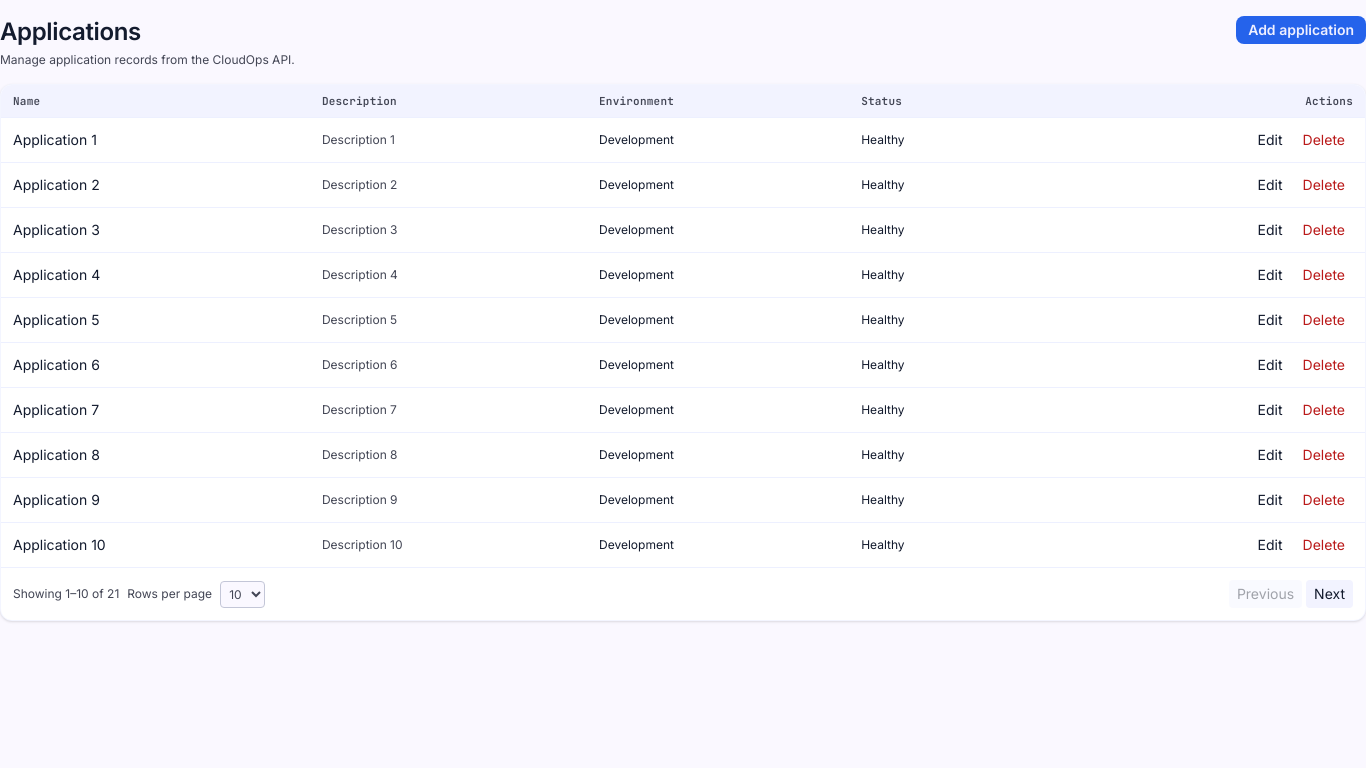
Scenario: ApplicationsPage › moves to the previous page after deleting the last page item
The image size is (1366, 768).
Expected: the row "Application 1 Description 1 development healthy Edit Delete" is shown, [1,118,1365,162]
Step 1. Click the button with aria-label "Next page" → (1330, 594), box [1306,580,1353,608]
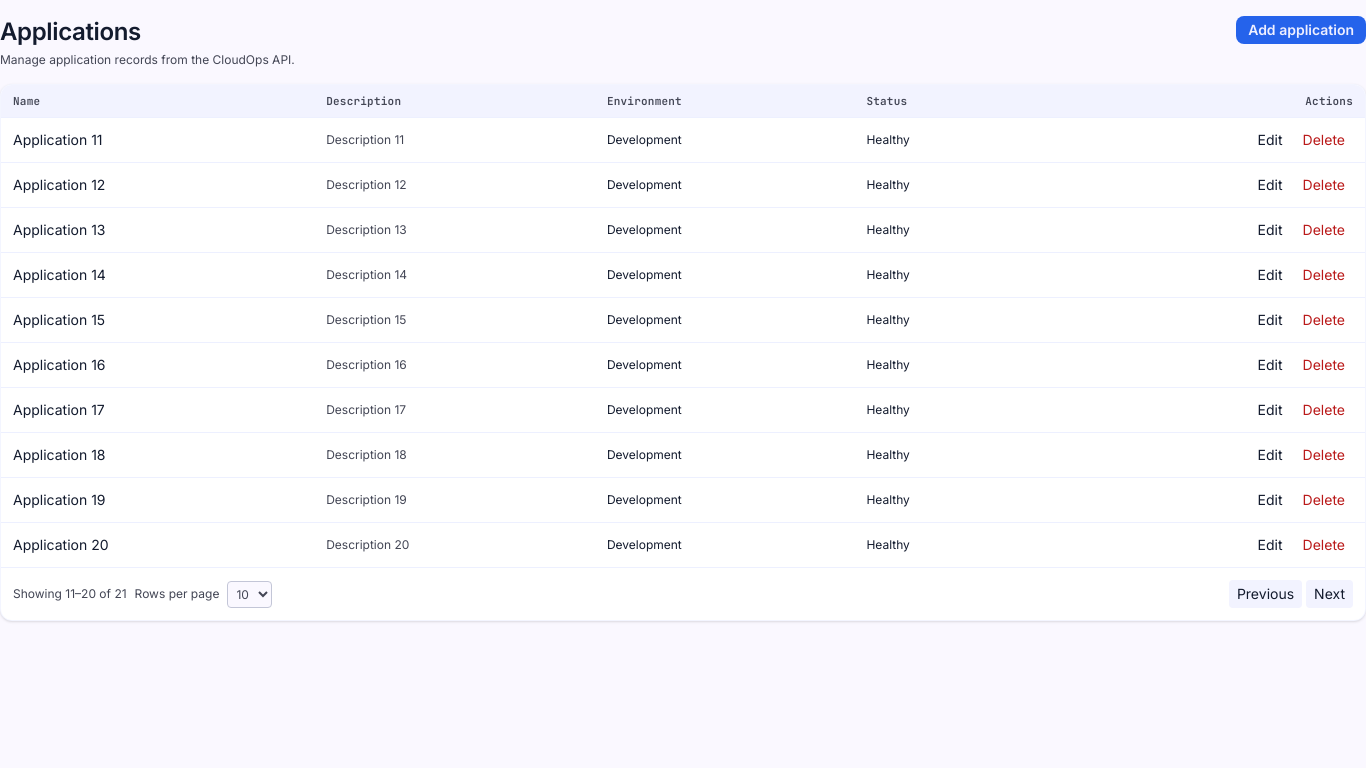
Now the row that starts with "Application 11" is shown, box [1,118,1365,162]
Step 2. Click the button with aria-label "Next page" → (1330, 594), box [1306,580,1353,608]
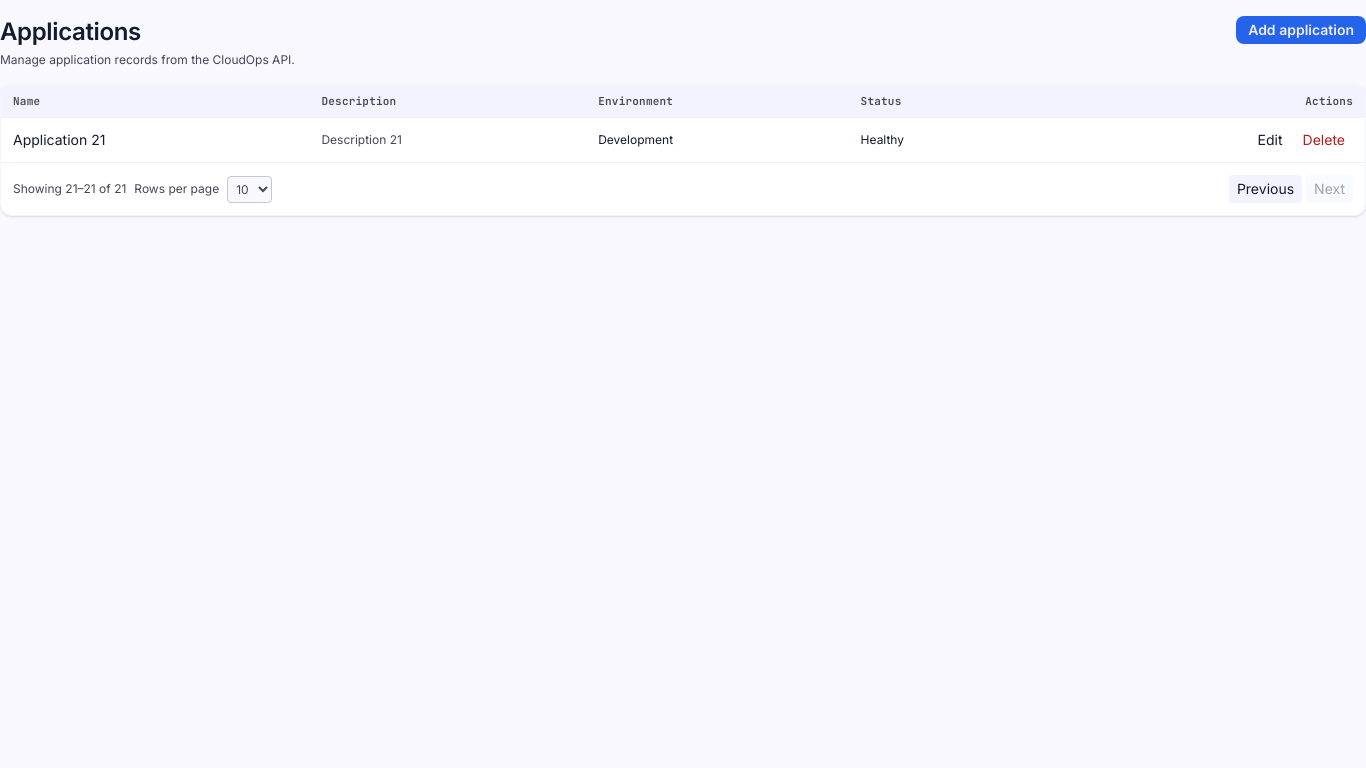
Now the row that starts with "Application 21" is shown, box [1,118,1365,162]
Step 3. Click the button with aria-label "Delete Application 21" → (1324, 140), box [1295,126,1353,154]
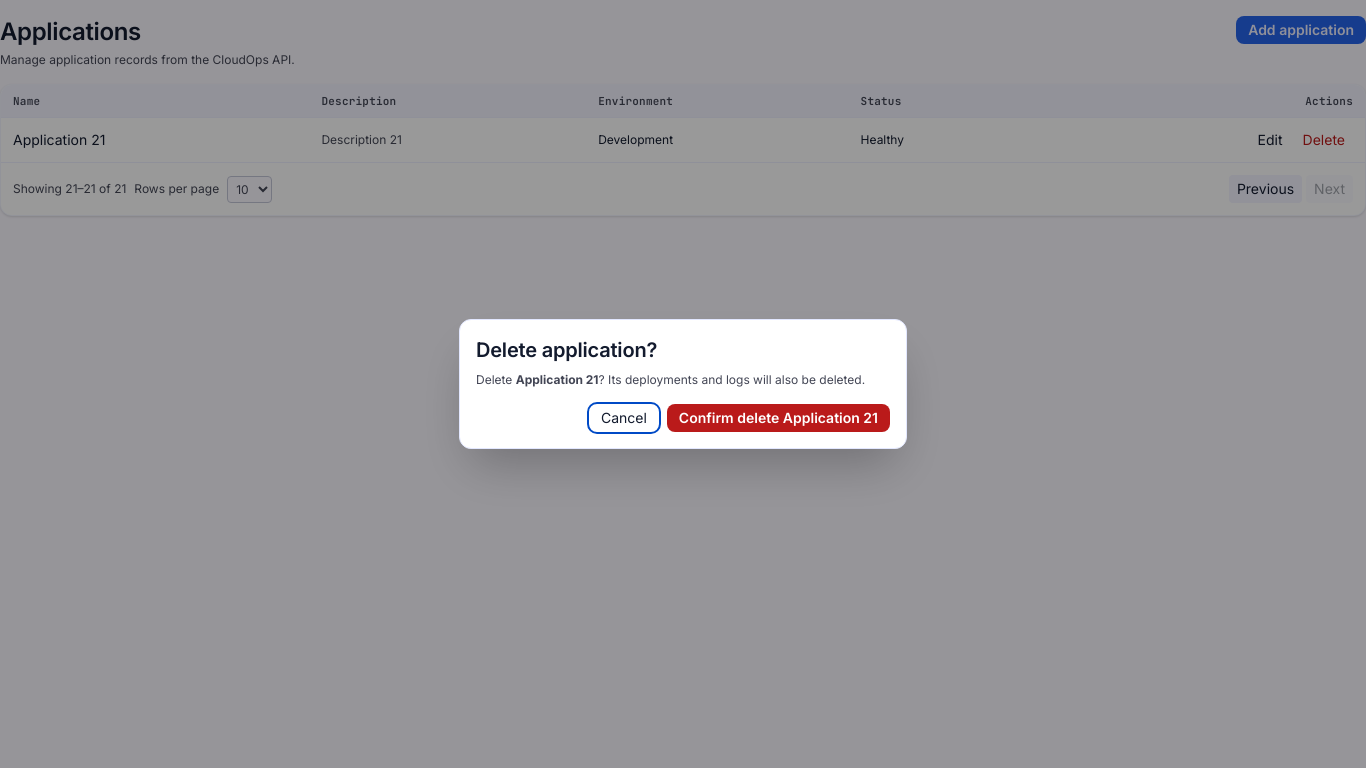
Step 4. Click the button "Confirm delete Application 21" → (778, 418), box [667,404,890,432]
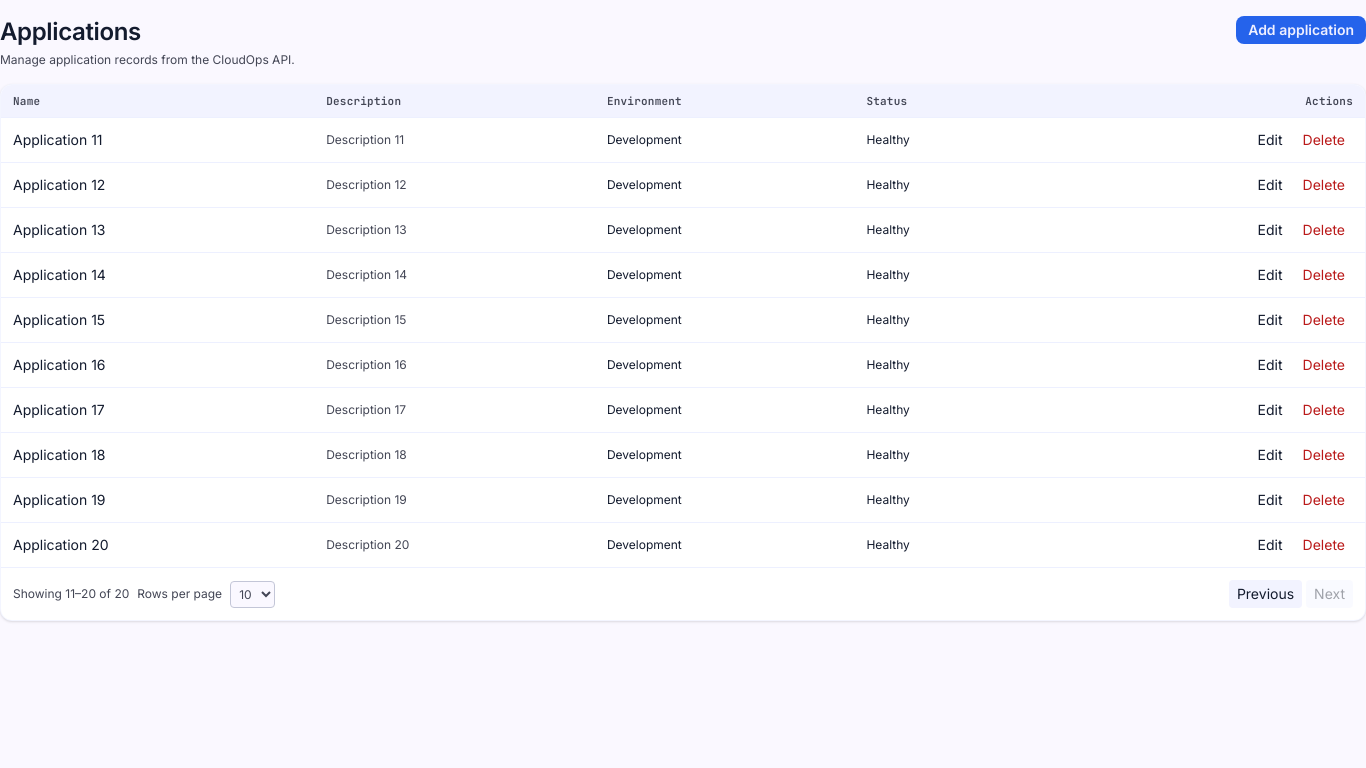
Now the text "Showing 11–20 of 20" is shown, box [13,586,129,602]
